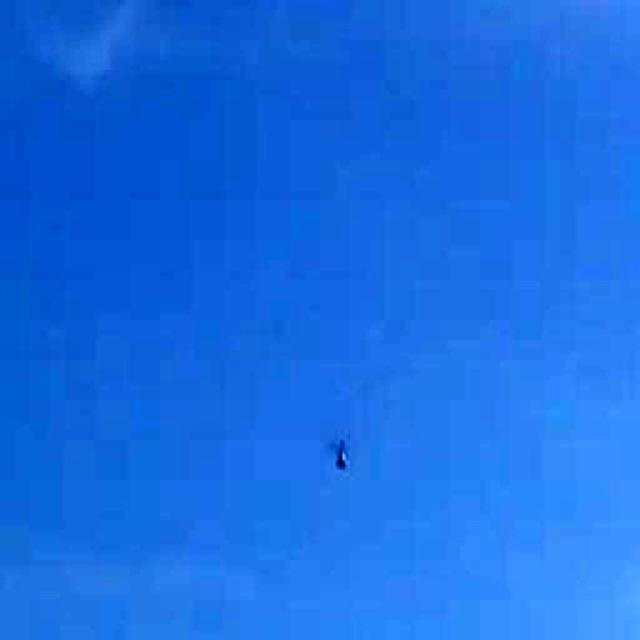drone: (309, 409, 372, 495)
